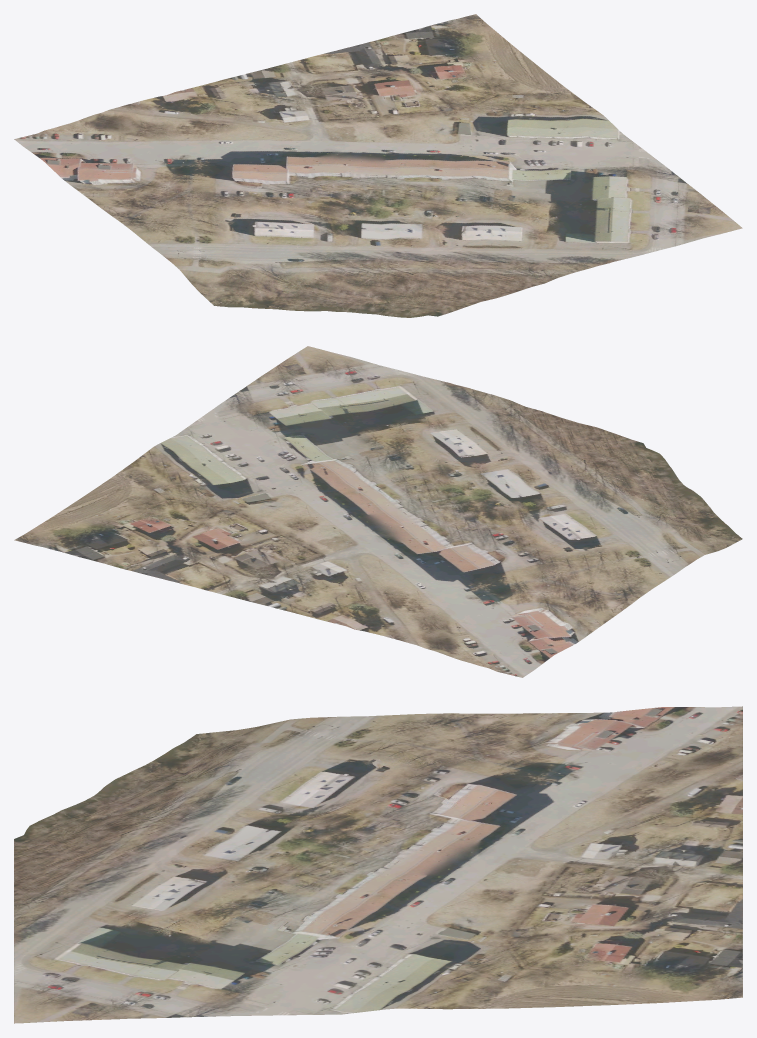
File: CM_Terrain_24489230_6819999.fbx
3 views of the same model, one above another, from view 1: azimuth 30°, elevation 25°; view 2: azimuth 150°, elevation 25°; view 3: azimuth 270°, elevation 25° (orthographic). The views are drawn at different scales.
Parts seen in each view (by area): view 1: CM_Terrain_24489230_6819999_LOD0; view 2: CM_Terrain_24489230_6819999_LOD0; view 3: CM_Terrain_24489230_6819999_LOD0.
Part boxes in pixels (<box>): CM_Terrain_24489230_6819999_LOD0: <box>14,14,742,317</box>; CM_Terrain_24489230_6819999_LOD0: <box>14,346,742,677</box>; CM_Terrain_24489230_6819999_LOD0: <box>14,706,742,1023</box>.
Size of what is drawn, in the model's own units: 205 by 14.23 by 205.
